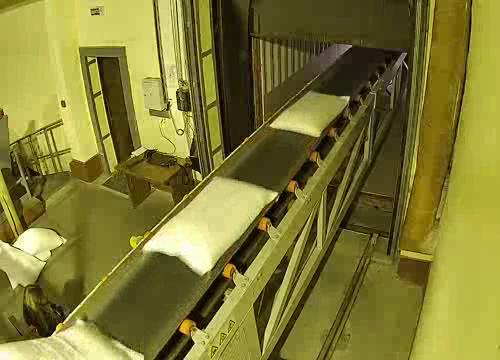bag: (139, 164, 288, 285), (0, 314, 152, 360), (267, 86, 355, 141)
